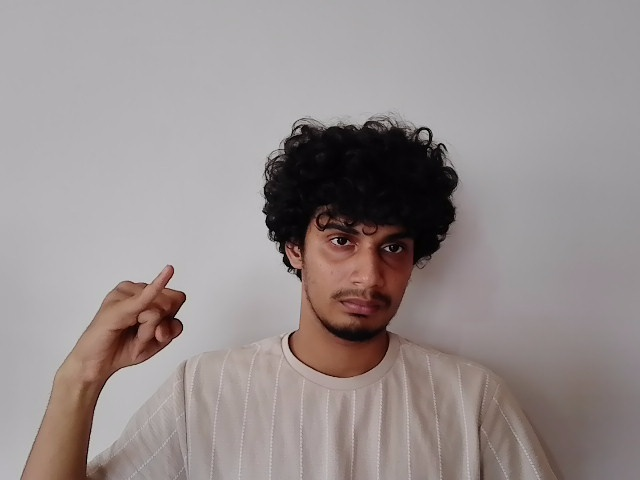bad: (60, 264, 189, 382)
